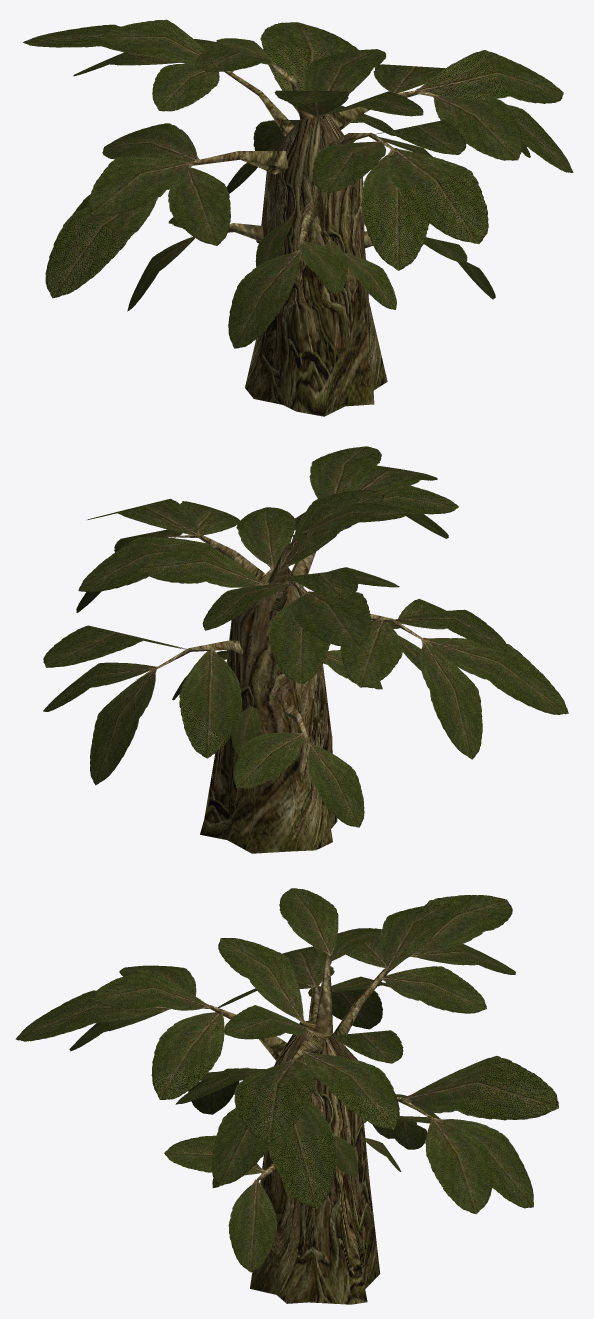
The model's file is decd_megaleaf_l0.fbx.
3 renders of one model, top to bottom at view 1: azimuth 30°, elevation 25°; view 2: azimuth 150°, elevation 25°; view 3: azimuth 270°, elevation 25°, orthographic. The views are drawn at different scales.
Visible parts, largest first — view 1: mesh_node; view 2: mesh_node; view 3: mesh_node.
Part boxes in pixels (bbox=[...]): mesh_node: bbox=[23, 19, 573, 416]; mesh_node: bbox=[43, 446, 568, 853]; mesh_node: bbox=[15, 888, 558, 1304].
Bounding box in the file's own units: 9.59 × 6.16 × 9.5.
